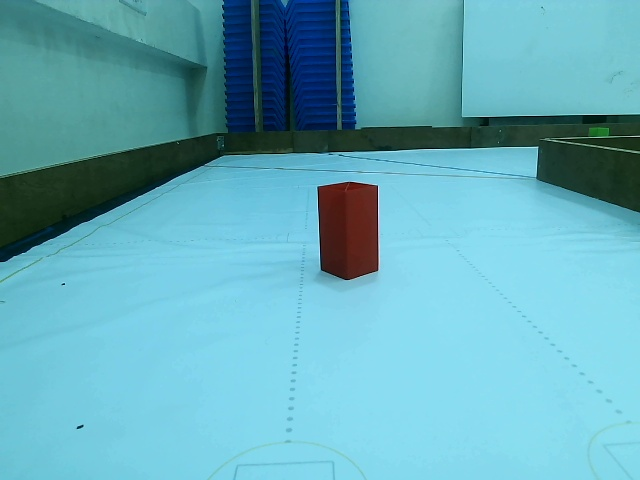red: (319, 183, 377, 272)
